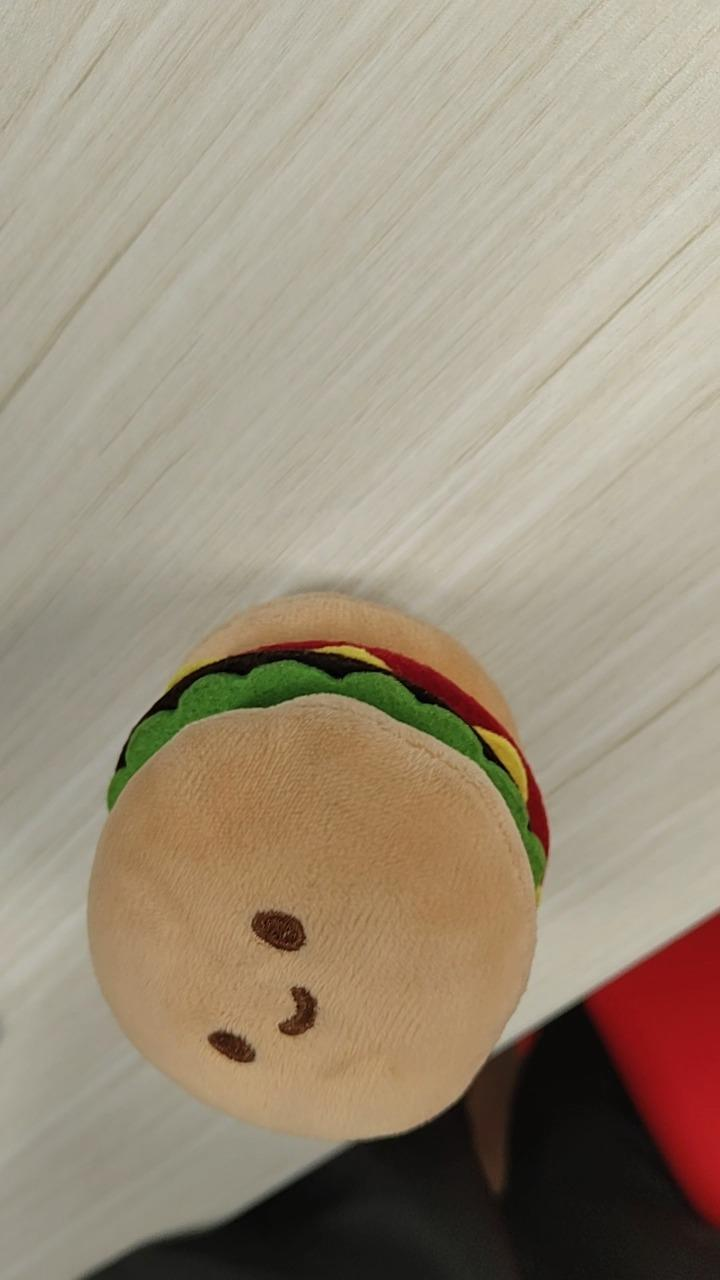hamburger: (85, 588, 551, 1144)
